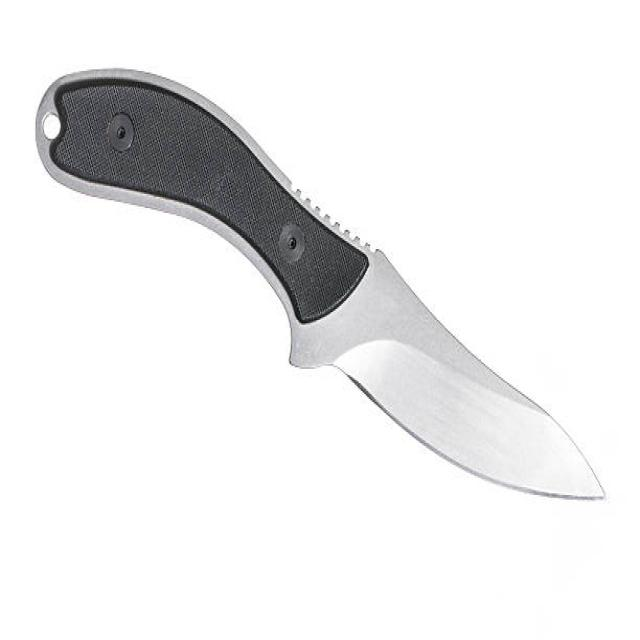knife: (33, 56, 610, 507)
